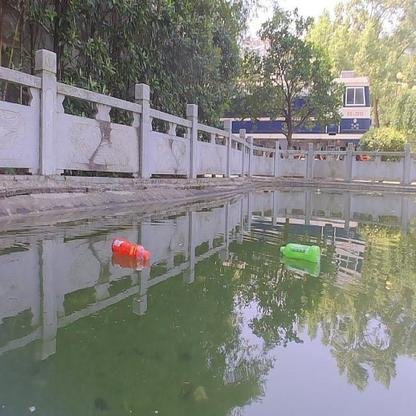plastic bottle: (278, 241, 321, 263), (111, 238, 150, 261)
